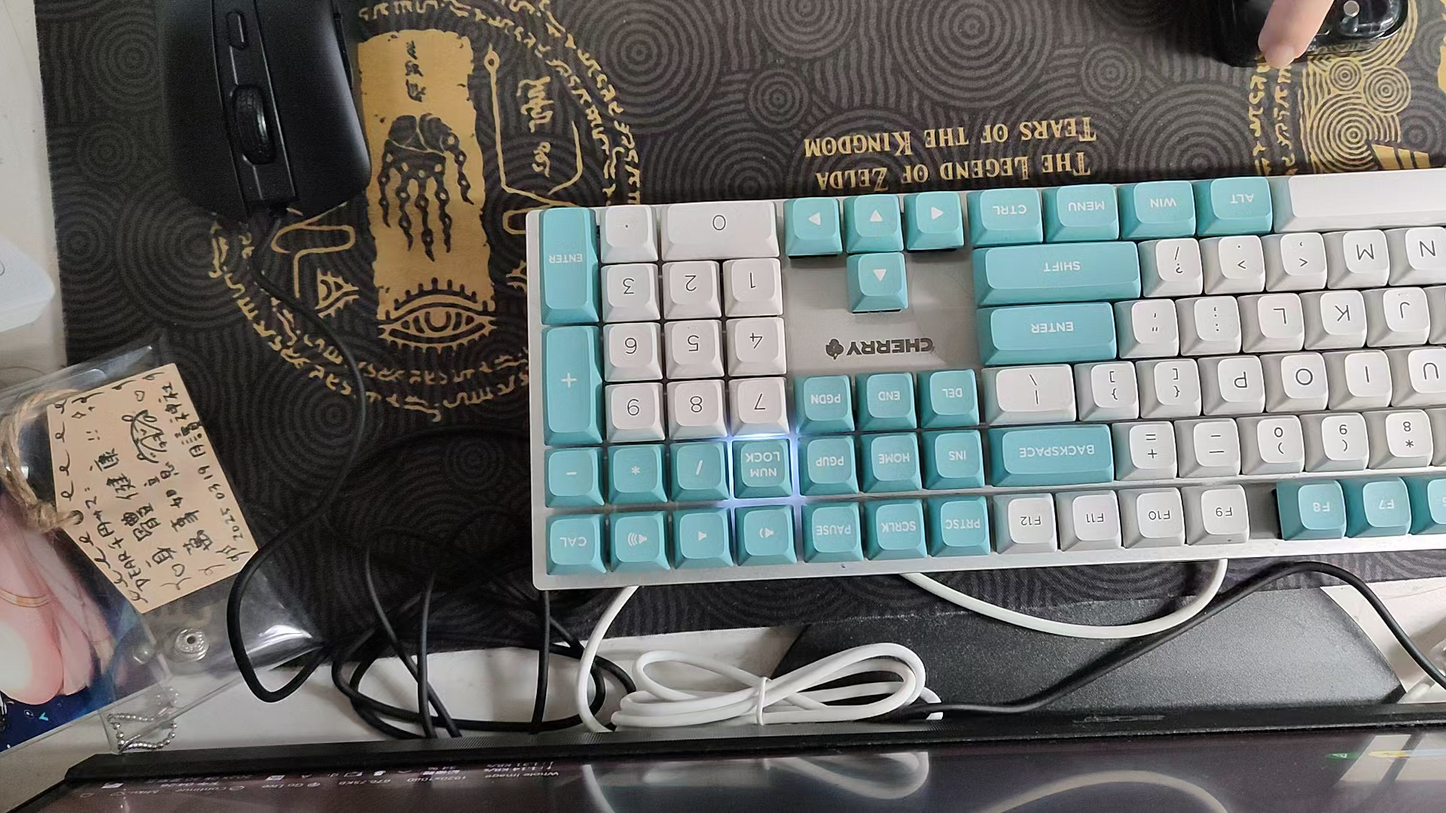Wireless_earphone: (1213, 0, 1410, 67)
